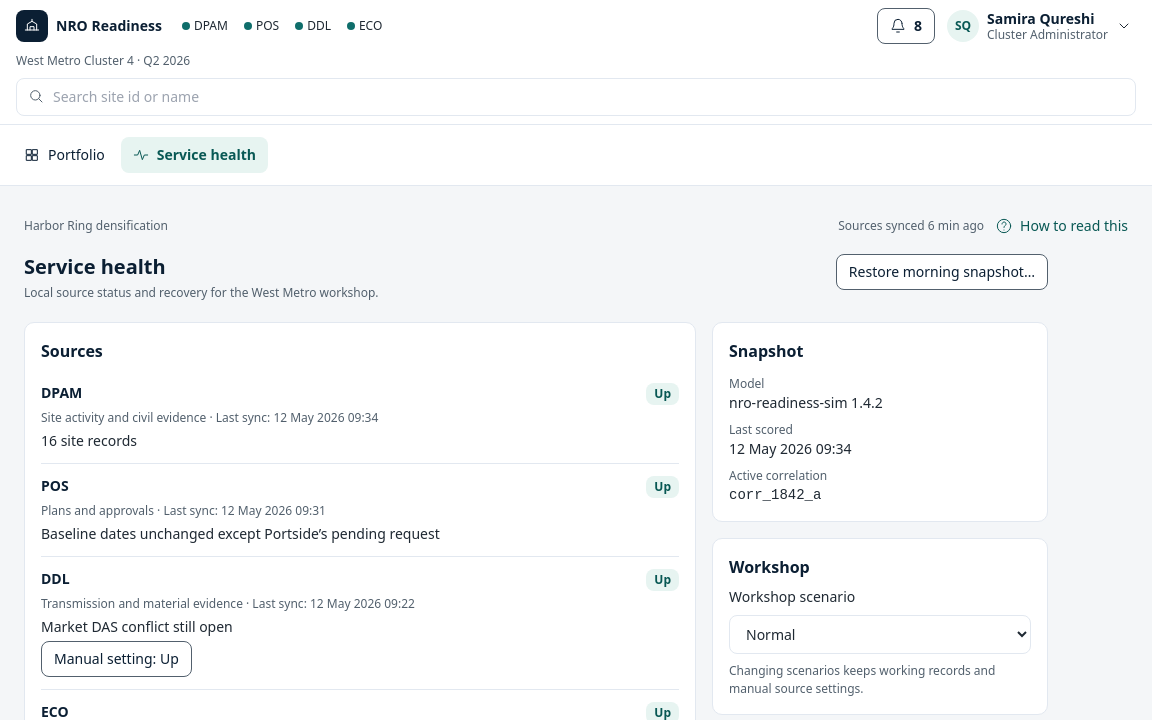
Test: reports a failed scenario selection without changing controls, storage, or route
Select "Consequential decision" in the dropdown labelled "Workshop scenario" at [880, 634], box [729,615,1031,654]
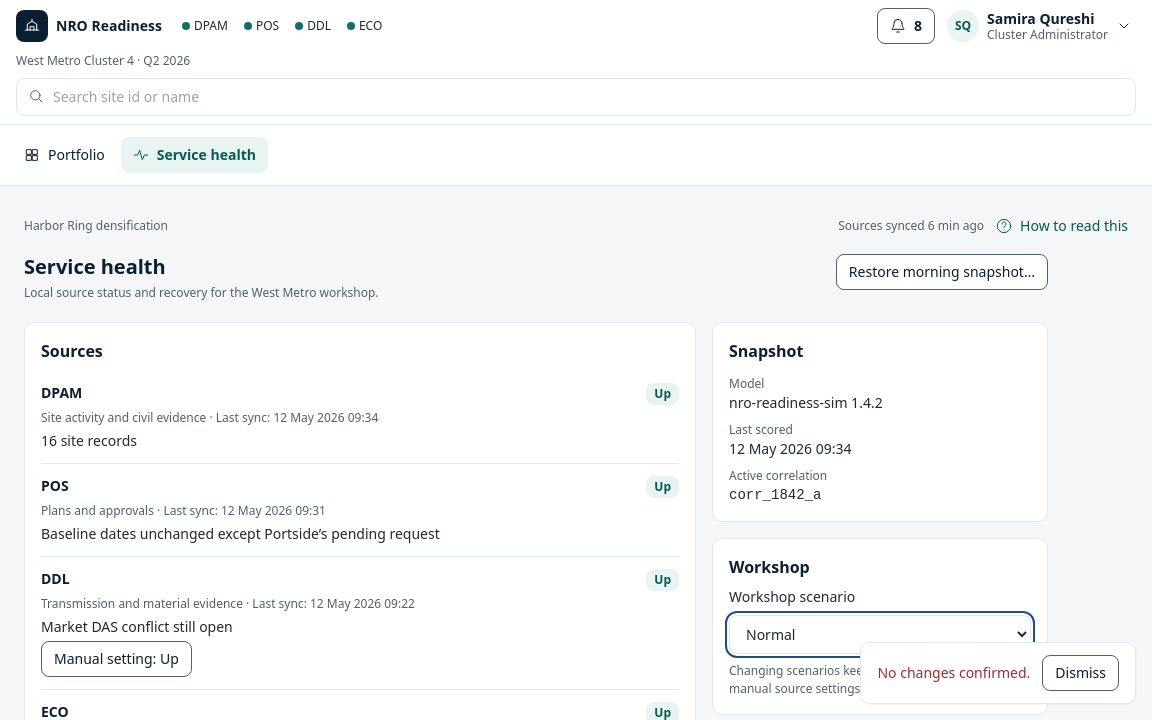
Expected: the heading "Service health" is shown, [24,253,166,280]
Result: the text "No changes confirmed." is shown at [878,663,1030,683]
